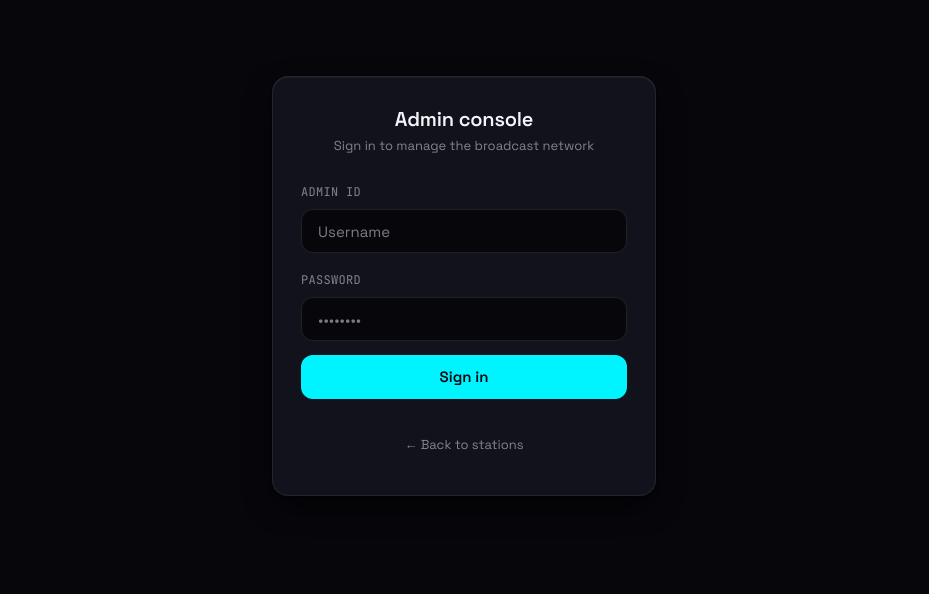
Test: AdminPanel › dashboard shows D1 metrics and a quota meter
Type "test-admin" into the field labelled "Admin ID" at [464, 231], box [301,209,627,253]
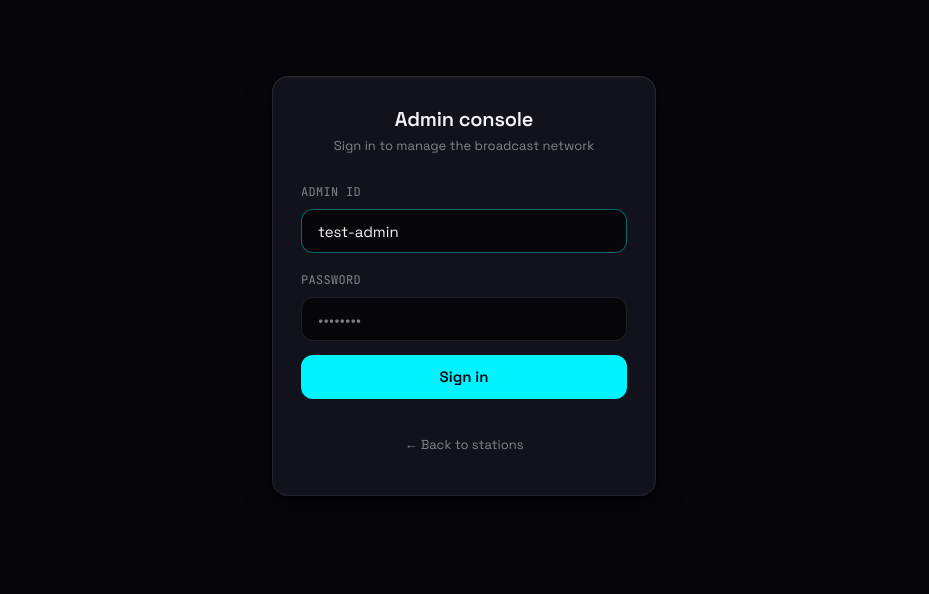
Type "test-pass" into the password field labelled "Password" at [464, 319], box [301,297,627,341]
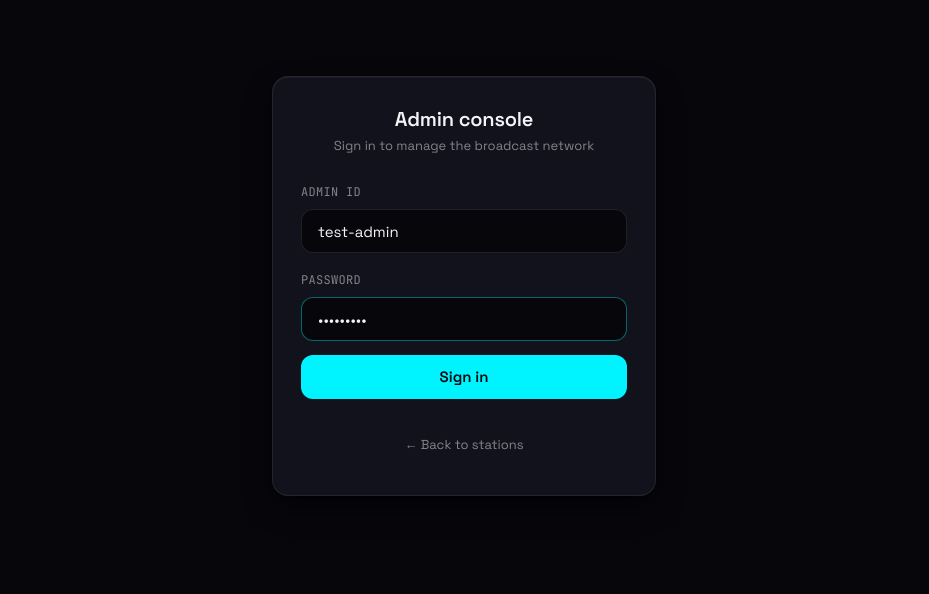
Click the button "Sign in" at [464, 377], box [301,355,627,399]
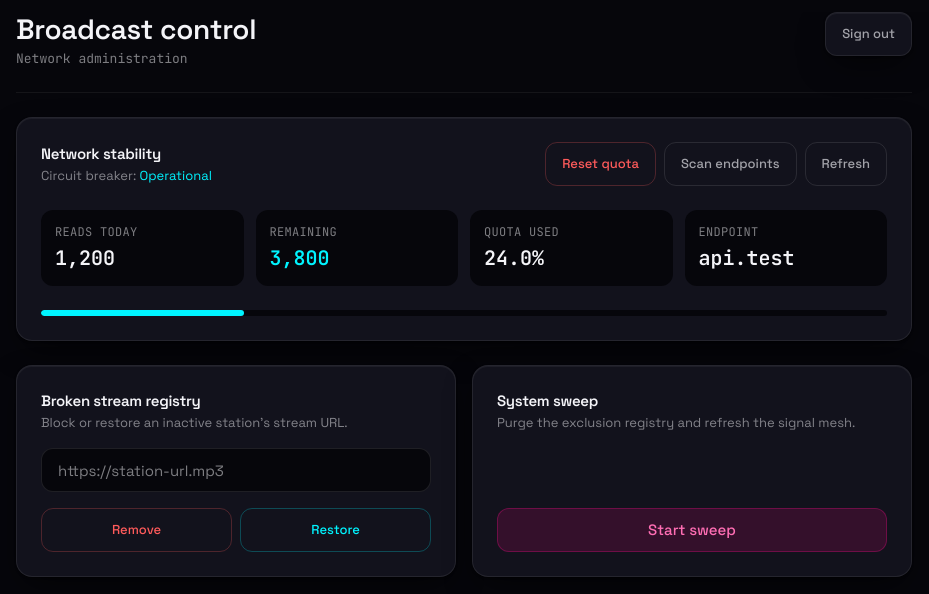
Expected: the heading "Broadcast control" is shown, [16,12,256,46]
Expected: the text "1,200" is shown, [55,245,115,271]
Expected: the text "3,800" is shown, [270,245,330,271]
